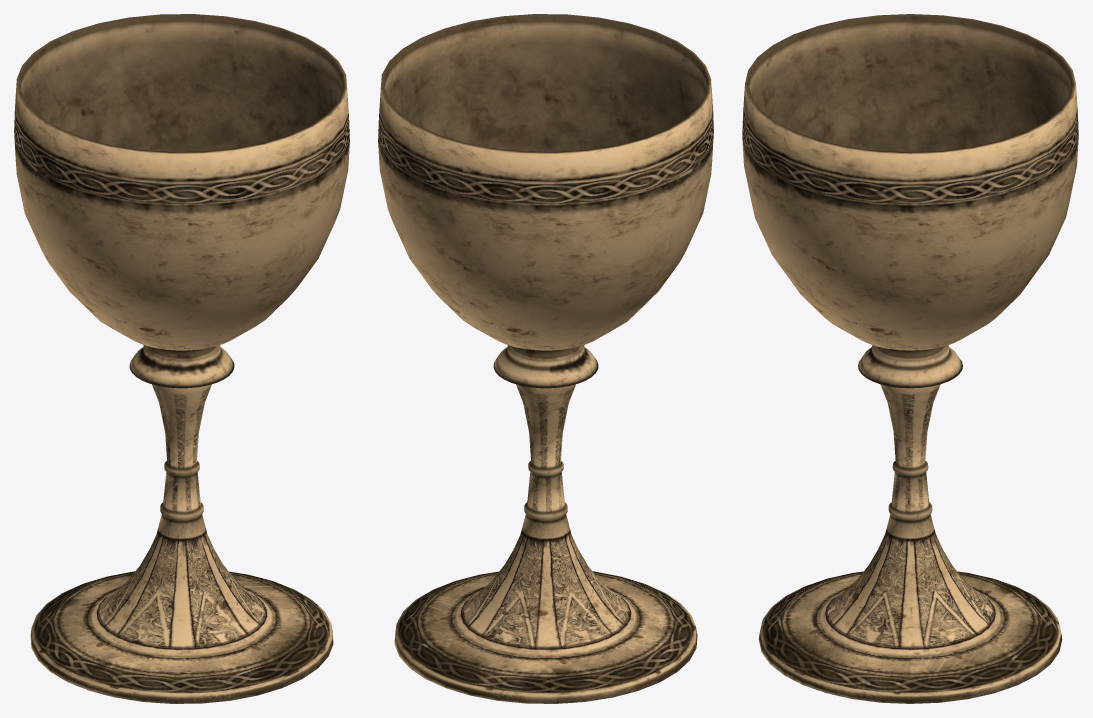
The model's file is brass_goblet1.glb.
3 renders of one model, left to right at view 1: azimuth 30°, elevation 25°; view 2: azimuth 150°, elevation 25°; view 3: azimuth 270°, elevation 25°, orthographic.
Parts seen in each view (by area): view 1: brass_goblet_03; view 2: brass_goblet_03; view 3: brass_goblet_03.
Boxes of the visible parts, bbox=[...] form: brass_goblet_03: bbox=[14, 14, 349, 703]; brass_goblet_03: bbox=[378, 14, 713, 703]; brass_goblet_03: bbox=[742, 14, 1078, 703].
Size of the model in its own units: 0.1493 by 0.2721 by 0.1493.
Materials: 1 (1 with a texture image).
